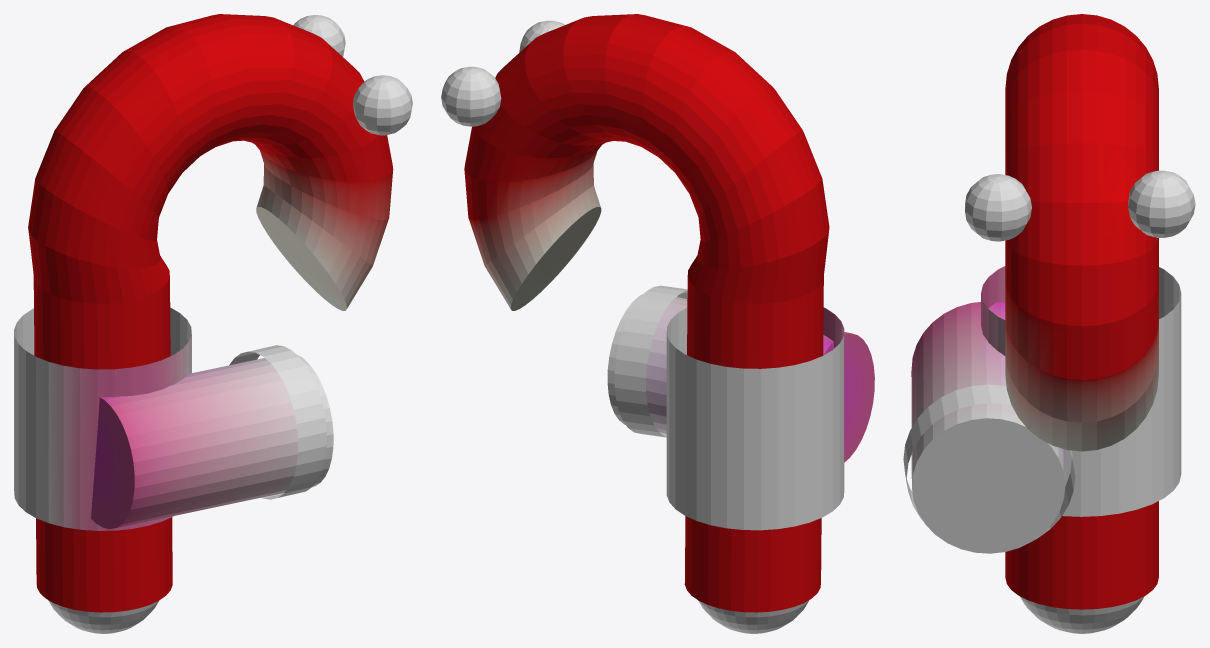
The model's file is bengala doce.fbx.
3 renders of one model, left to right at view 1: azimuth 30°, elevation 25°; view 2: azimuth 150°, elevation 25°; view 3: azimuth 270°, elevation 25°, orthographic. The views are drawn at different scales.
Visible parts, largest first — view 1: Cylinder.001, Cylinder.002, Cylinder, Cylinder.003, Sphere.001, Sphere, Sphere.002; view 2: Cylinder.001, Cylinder, Cylinder.002, Cylinder.003, Sphere.002, Sphere; view 3: Cylinder.001, Cylinder.002, Cylinder, Sphere.002, Sphere.001, Cylinder.003, Sphere.
Boxes of the visible parts, left/top/right/bottom form: Cylinder.001: left=28, top=14, right=393, bottom=612; Cylinder.002: left=91, top=355, right=333, bottom=529; Cylinder: left=14, top=307, right=191, bottom=530; Cylinder.003: left=229, top=345, right=326, bottom=499; Sphere.001: left=353, top=75, right=412, bottom=135; Sphere: left=48, top=600, right=158, bottom=633; Sphere.002: left=293, top=15, right=345, bottom=56; Cylinder.001: left=464, top=14, right=829, bottom=612; Cylinder: left=666, top=307, right=844, bottom=530; Cylinder.002: left=607, top=294, right=874, bottom=462; Cylinder.003: left=614, top=285, right=687, bottom=437; Sphere.002: left=441, top=66, right=501, bottom=126; Sphere: left=698, top=600, right=809, bottom=633; Cylinder.001: left=1005, top=14, right=1158, bottom=609; Cylinder.002: left=911, top=302, right=1065, bottom=553; Cylinder: left=981, top=266, right=1181, bottom=516; Sphere.002: left=1128, top=170, right=1195, bottom=237; Sphere.001: left=965, top=174, right=1031, bottom=241; Cylinder.003: left=903, top=384, right=1075, bottom=539; Sphere: left=1020, top=596, right=1144, bottom=633.
Bounding box in the file's own units: 6.07 × 9.33 × 3.81.
